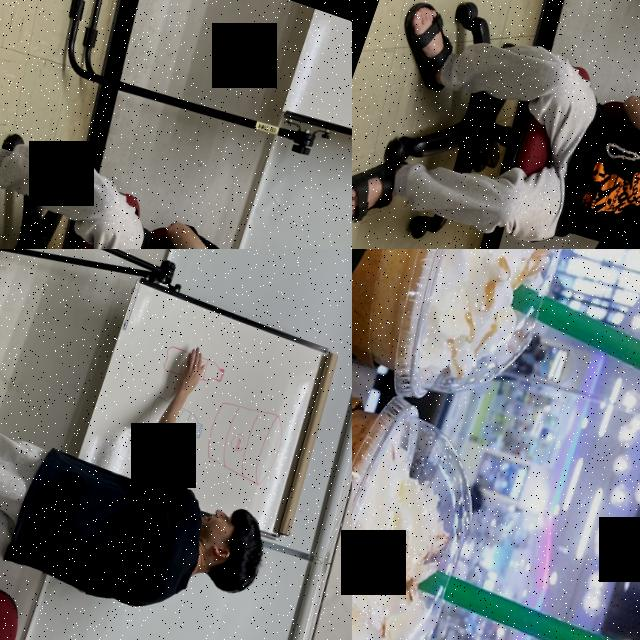cup: (352, 314, 502, 640), (352, 249, 601, 431)
